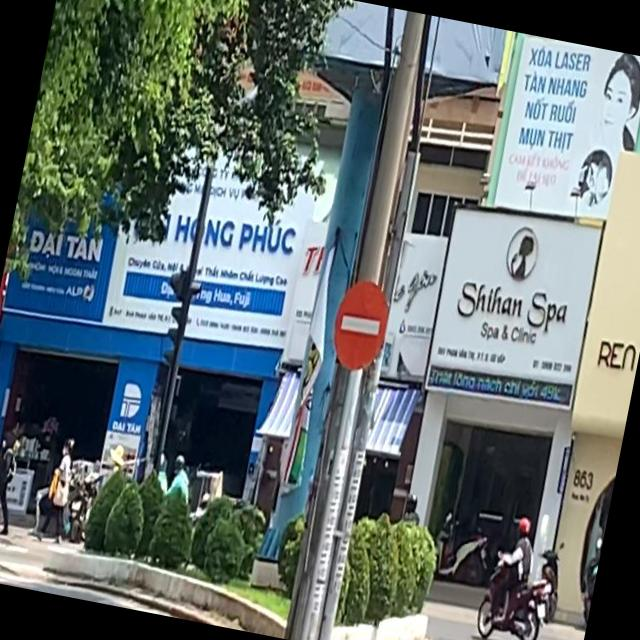P-102: (330, 276, 396, 374)
